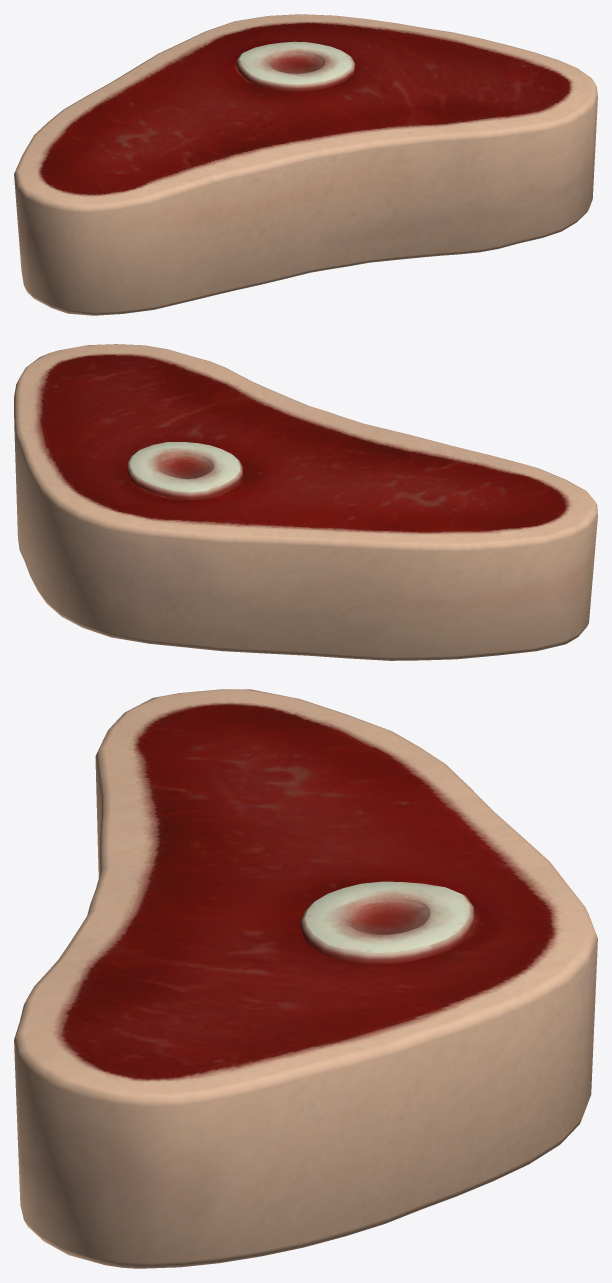
File: team_fortress_2_-_buffalo_steak_sandvich.glb
3 views of the same model, one above another, from view 1: azimuth 30°, elevation 25°; view 2: azimuth 150°, elevation 25°; view 3: azimuth 270°, elevation 25° (orthographic). The views are drawn at different scales.
Parts seen in each view (by area): view 1: c_buffalo_steak.qc_skeleton; view 2: c_buffalo_steak.qc_skeleton; view 3: c_buffalo_steak.qc_skeleton.
Boxes of the visible parts, x1=… form: c_buffalo_steak.qc_skeleton: x1=14, y1=14, x2=597, y2=315; c_buffalo_steak.qc_skeleton: x1=14, y1=344, x2=597, y2=660; c_buffalo_steak.qc_skeleton: x1=14, y1=689, x2=597, y2=1268.
Bounding box in the file's own units: 13.92 × 3.19 × 8.23.
1 material, 1 textured.
